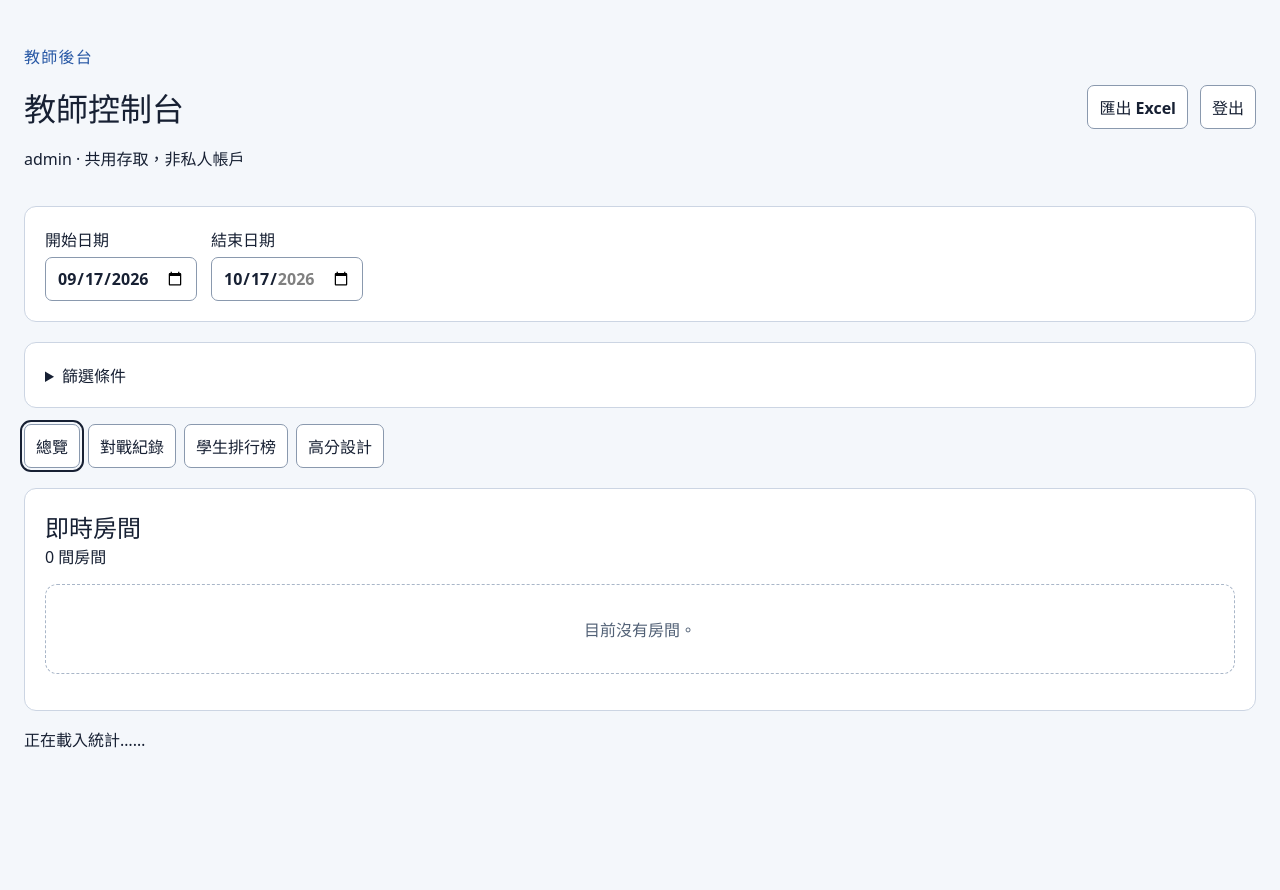
shows concrete historical designs with layers, sample count and model versions
Click the tab "高分設計" at (340, 446), box [296,424,384,468]
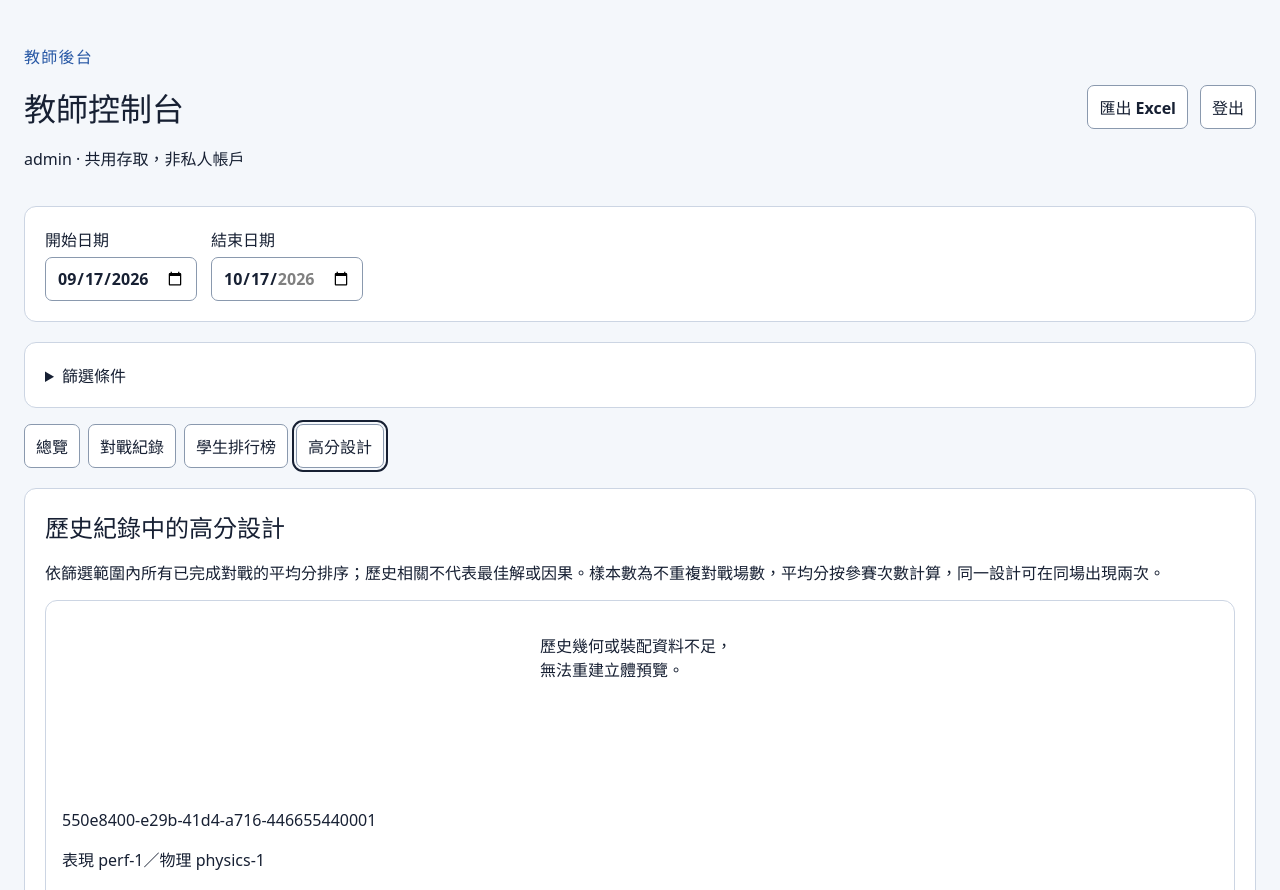
Now the heading "歷史紀錄中的高分設計" is shown, box [45,511,285,544]
Now the text "表現 perf-1／物理 physics-1" is shown, box [62,849,265,871]
Now the text "不代表最佳解或因果" is shown, box [45,562,1165,584]
